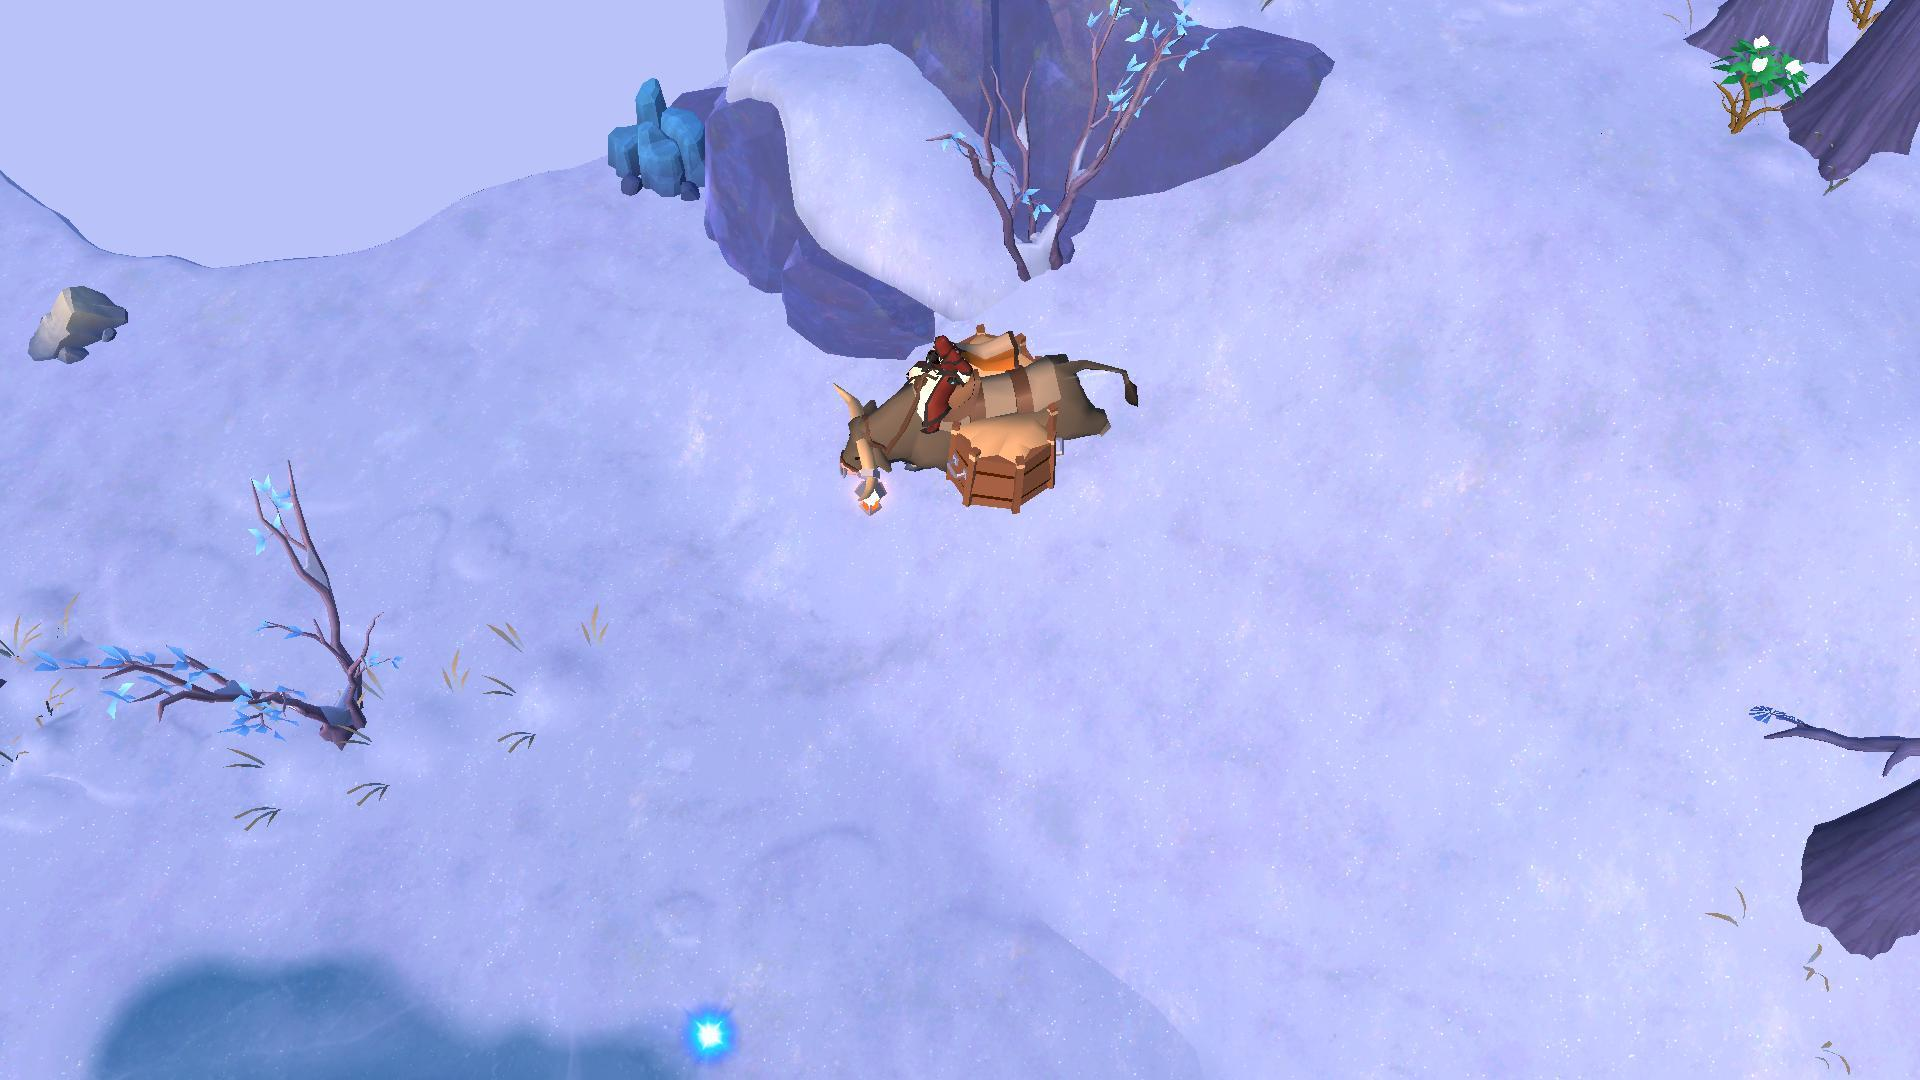fiber_t3: (1713, 36, 1805, 133)
rock_t4: (599, 78, 721, 204)
